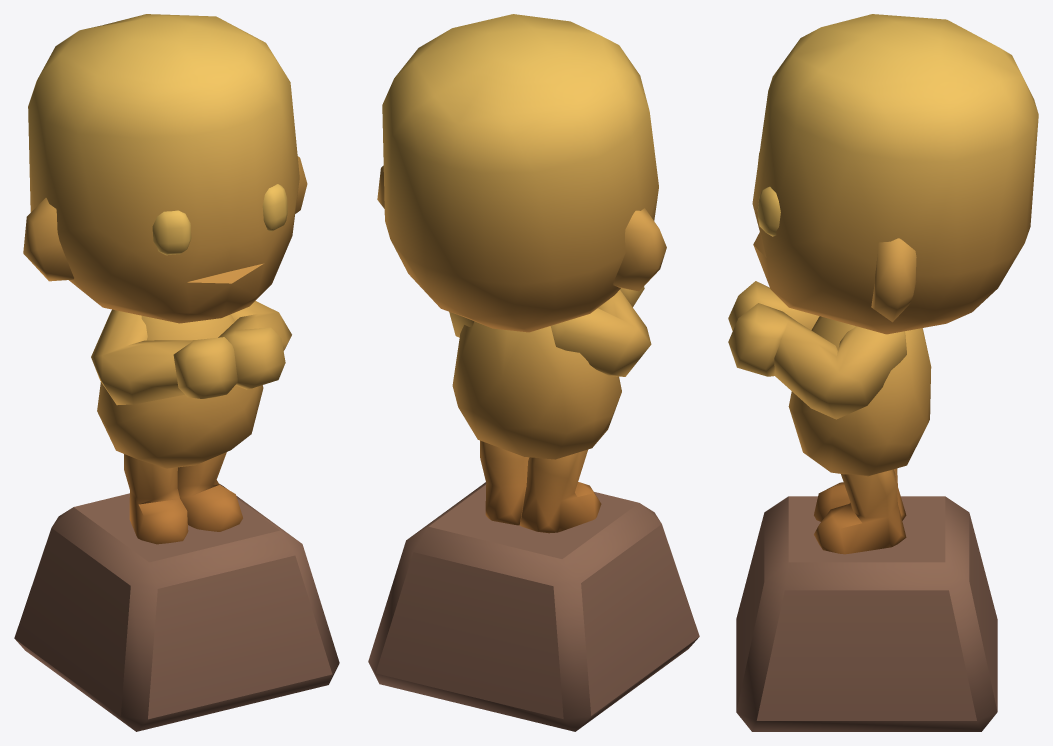
File: idol_A.fbx
3 views of the same model, side by side, from view 1: azimuth 30°, elevation 25°; view 2: azimuth 150°, elevation 25°; view 3: azimuth 270°, elevation 25° (orthographic). The views are drawn at different scales.
Parts seen in each view (by area): view 1: idol_A; view 2: idol_A; view 3: idol_A.
Part boxes in pixels (x1,y1,x2,y2): idol_A: (14,14,339,731); idol_A: (368,14,699,731); idol_A: (728,14,1038,731).
Bounding box in the file's own units: 0.3896 × 0.8451 × 0.3677.
